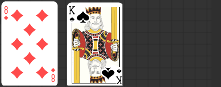8D: (2, 4, 9, 21)
